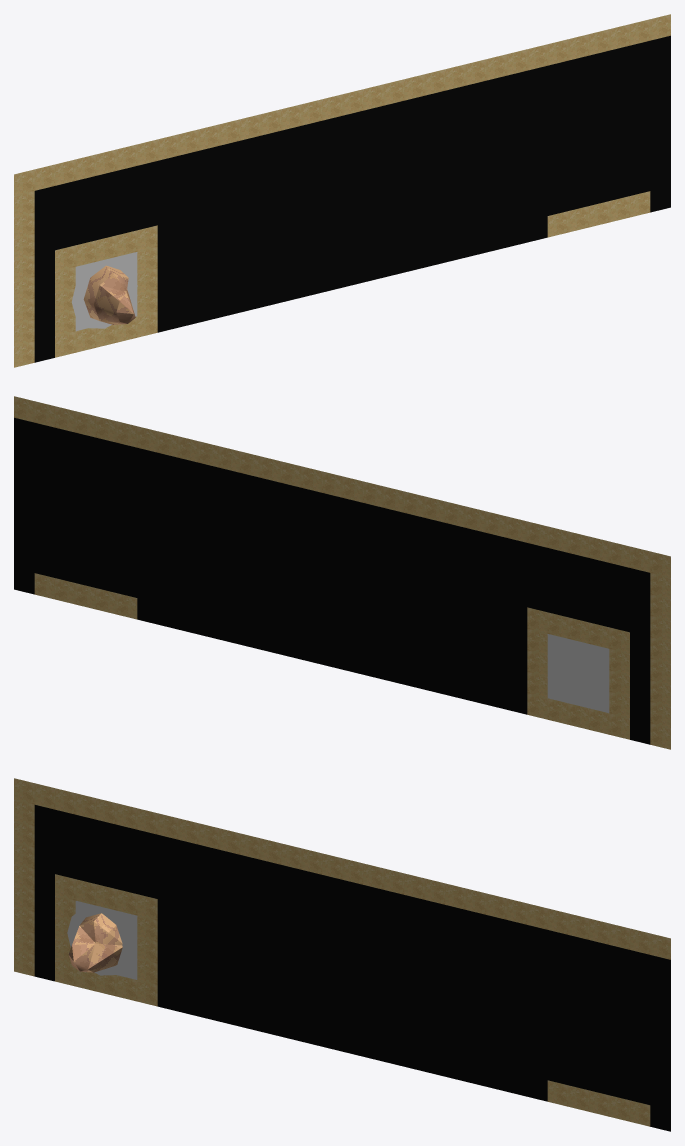
Rendered from Navel-Cave-East-1_02_00.obj.
3 renders of one model, top to bottom at view 1: azimuth 30°, elevation 25°; view 2: azimuth 150°, elevation 25°; view 3: azimuth 330°, elevation 25°, orthographic.
Parts seen in each view (by area): view 1: map; view 2: map; view 3: map.
Boxes of the visible parts, box(x1,y1,x2,y2) form: map: box(14, 14, 670, 367); map: box(14, 396, 670, 749); map: box(14, 778, 670, 1131).
Bounding box in the file's own units: 32 × 9 × 2.54.
